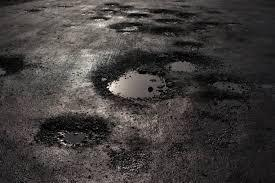pothole: (31, 112, 117, 150), (97, 63, 174, 105), (190, 107, 237, 149), (108, 142, 153, 176), (157, 52, 223, 74), (203, 76, 255, 94), (192, 18, 238, 36), (0, 52, 25, 80), (108, 19, 146, 37), (94, 0, 135, 15), (150, 6, 197, 18), (148, 25, 187, 38), (171, 40, 208, 51), (89, 15, 109, 25), (151, 19, 184, 25), (124, 11, 152, 18), (22, 7, 43, 16)
